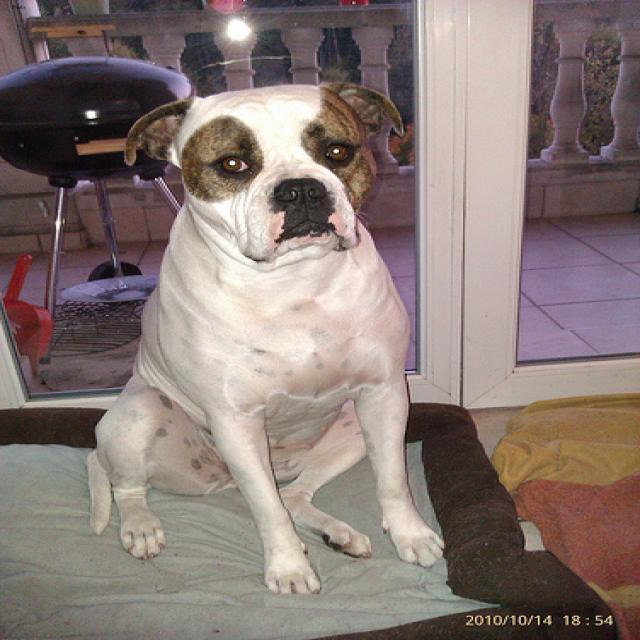dog-american_bulldog: (68, 73, 460, 608)
